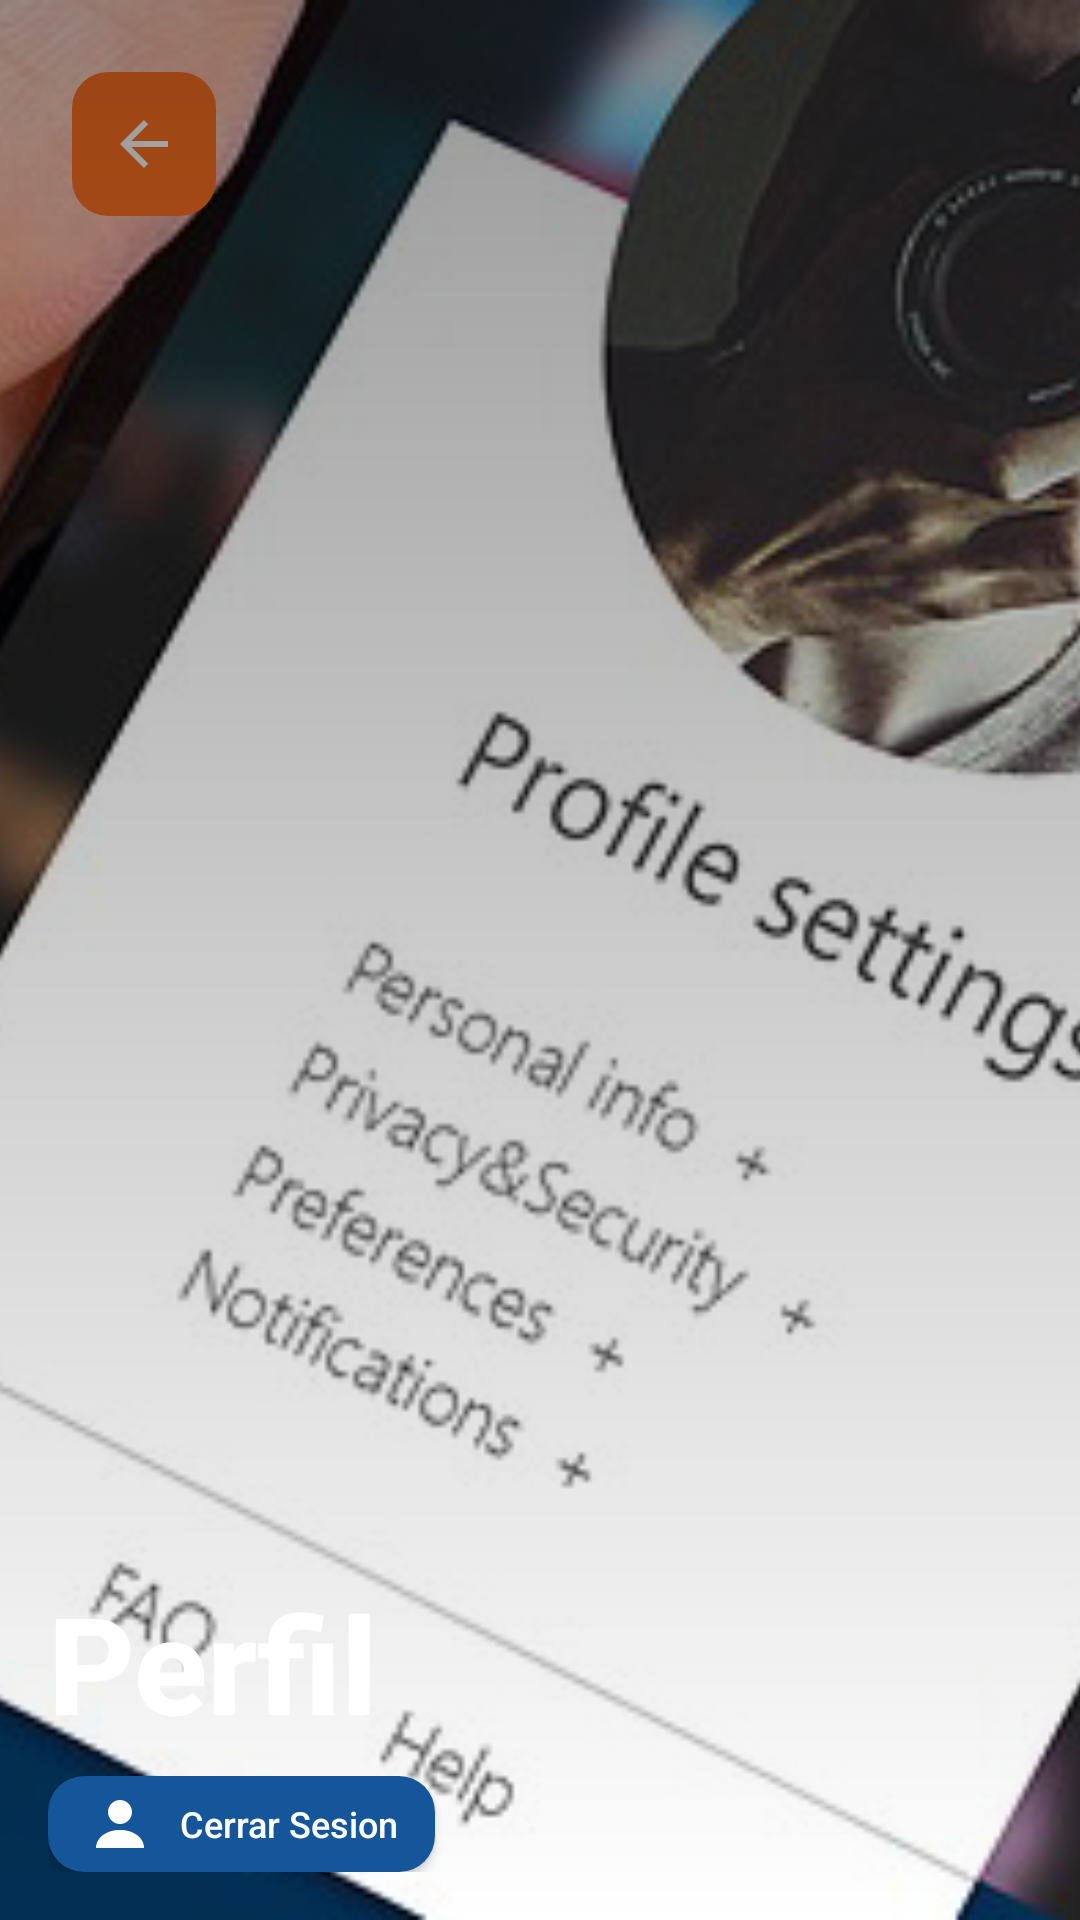

Named icons in this screenshot (1080w x 1920h) and their bounding boxes, Rect(x1, y1, x2, y2):
Atras: Rect(72, 72, 216, 216)
